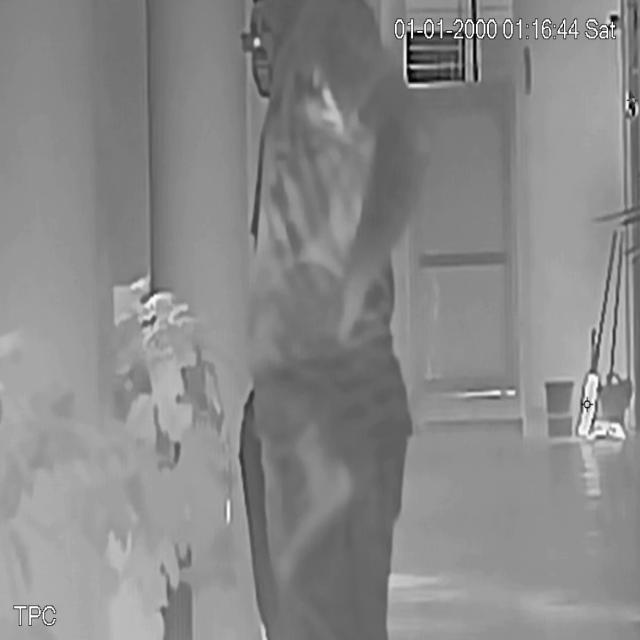Weapon: (263, 424, 358, 592)
